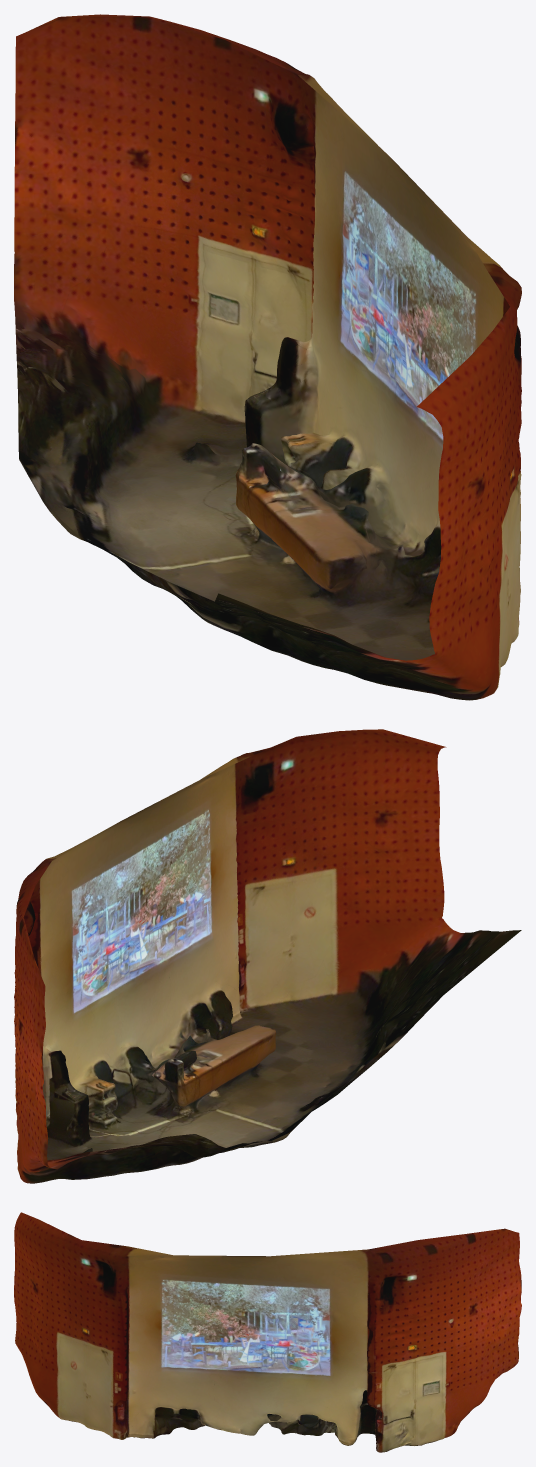
The picture shows the model from 3 angles, top to bottom: view 1: azimuth 30°, elevation 25°; view 2: azimuth 150°, elevation 25°; view 3: azimuth 270°, elevation 25°; orthographic projection. The views are drawn at different scales.
Visible parts, largest first — view 1: photogrammetry; view 2: photogrammetry; view 3: photogrammetry.
Part boxes in pixels (x1=…): photogrammetry: x1=14, y1=14, x2=521, y2=700; photogrammetry: x1=14, y1=729, x2=521, y2=1183; photogrammetry: x1=14, y1=1212, x2=521, y2=1452.
Size of the model in its own units: 5.49 by 5.07 by 11.54.
1 material, 1 textured.
